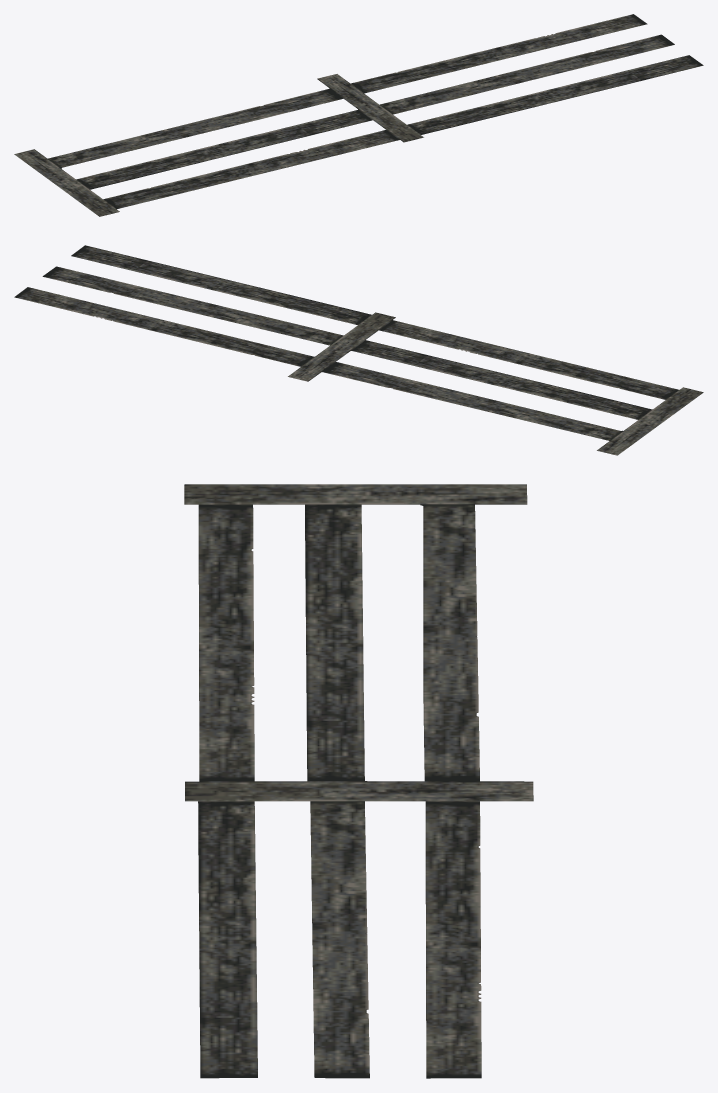
The model's file is SM_EC_Fence_Card_00.fbx.
The picture shows the model from 3 angles, top to bottom: view 1: azimuth 30°, elevation 25°; view 2: azimuth 150°, elevation 25°; view 3: azimuth 270°, elevation 25°; orthographic projection. The views are drawn at different scales.
Visible parts, largest first — view 1: SM_EC_Fence_Card_00; view 2: SM_EC_Fence_Card_00; view 3: SM_EC_Fence_Card_00.
Part boxes in pixels (x1,y1,x2,y2): SM_EC_Fence_Card_00: [14, 14, 703, 216]; SM_EC_Fence_Card_00: [14, 245, 703, 455]; SM_EC_Fence_Card_00: [184, 484, 533, 1078].
Size of the model in its own units: 6.9 by 1.71 by 0.
